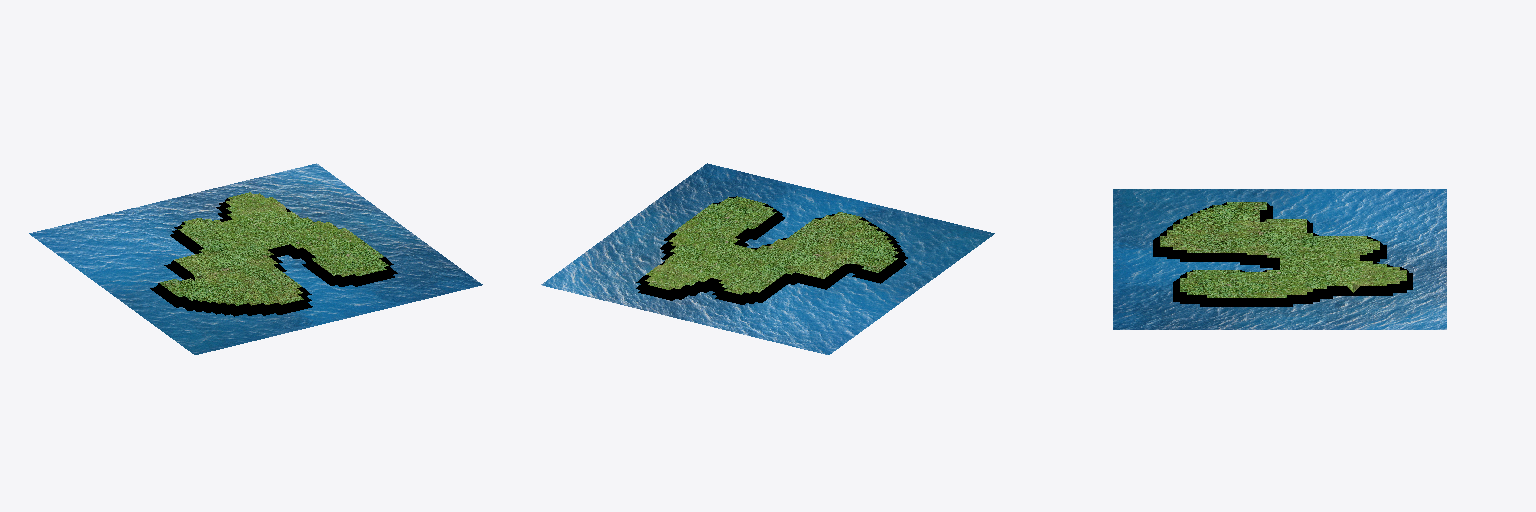
3 views of the same model, side by side, from view 1: azimuth 30°, elevation 25°; view 2: azimuth 150°, elevation 25°; view 3: azimuth 270°, elevation 25° (orthographic).
Parts seen in each view (by area): view 1: pPlane1; view 2: pPlane1; view 3: pPlane1.
Part boxes in pixels (x1,y1,x2,y2): pPlane1: (29, 163, 482, 354); pPlane1: (541, 163, 994, 354); pPlane1: (1113, 189, 1446, 329).
Bounding box in the file's own units: 368 × 8.25 × 368.
Materials: 3 (2 with a texture image).